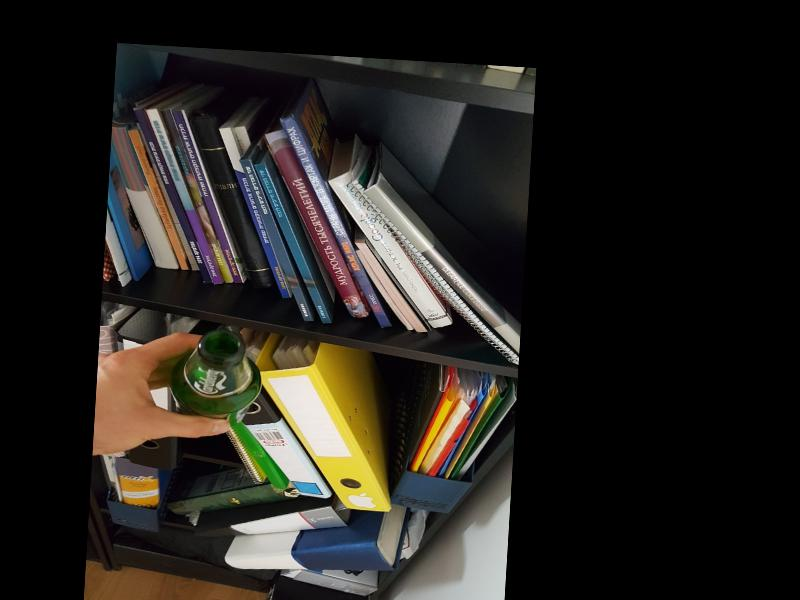Beer: (171, 329, 263, 429)
